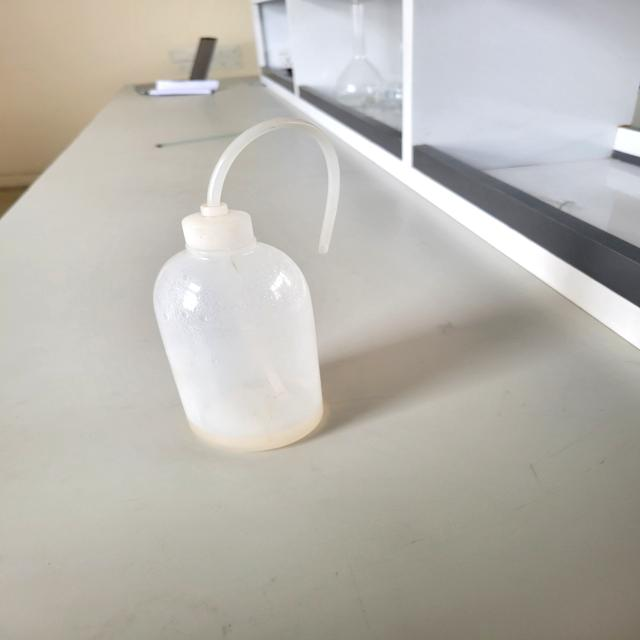Wash_Bottle: (142, 104, 356, 468)
